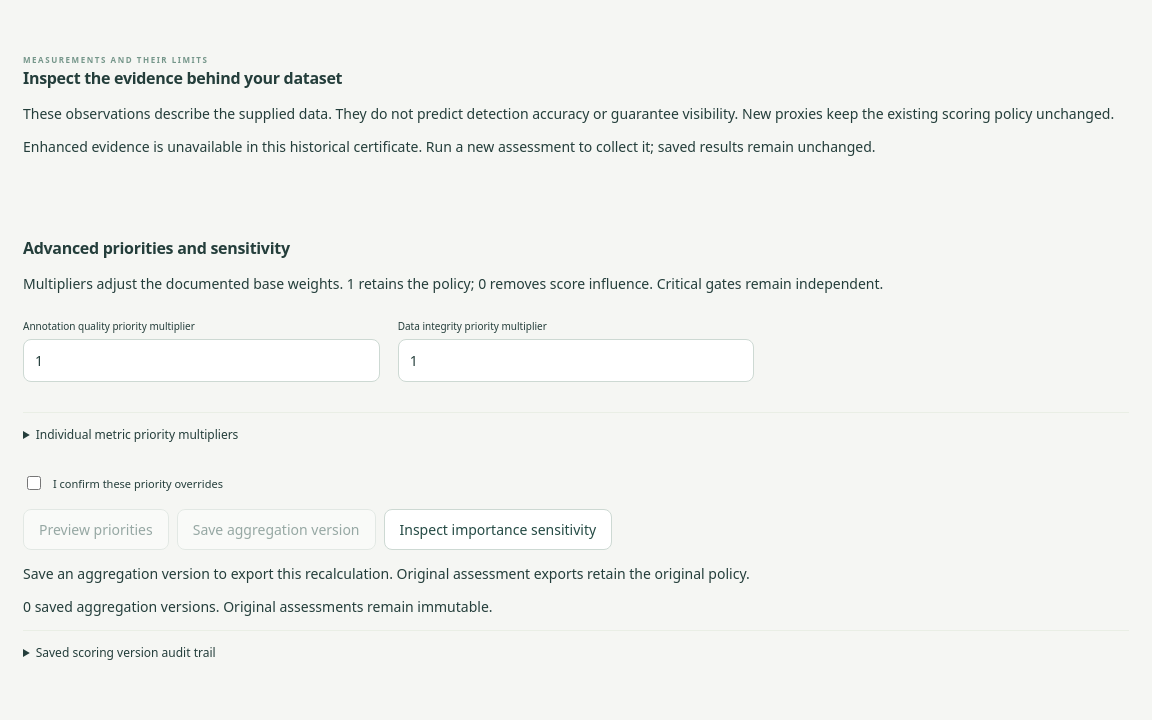
Scenario: requires explicit priority confirmation and persists the exact submitted multipliers
(page scrolled)
Replace the text in the number field labelled "Annotation quality priority multiplier" with "2" at (201, 361), box 23,339 -> 380,382
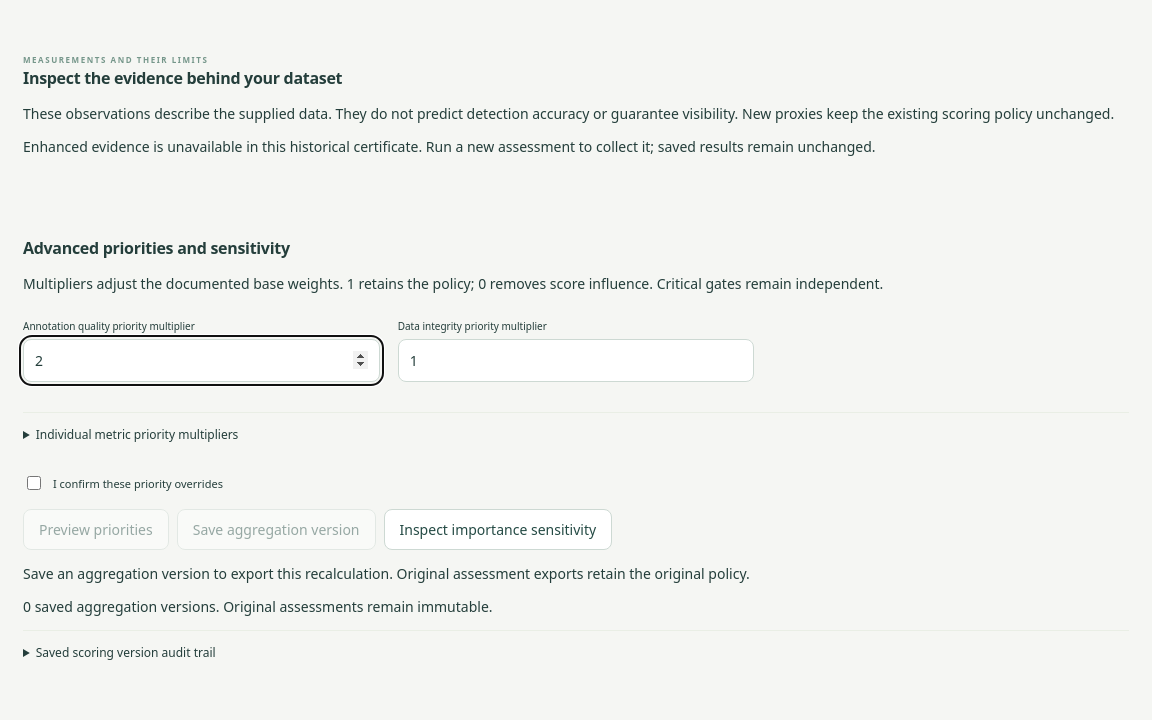
Expected: the button "Save aggregation version" is disabled, 177,510 -> 376,550
Click the checkbox labelled "I confirm these priority overrides" at (34, 484), box 27,476 -> 41,490
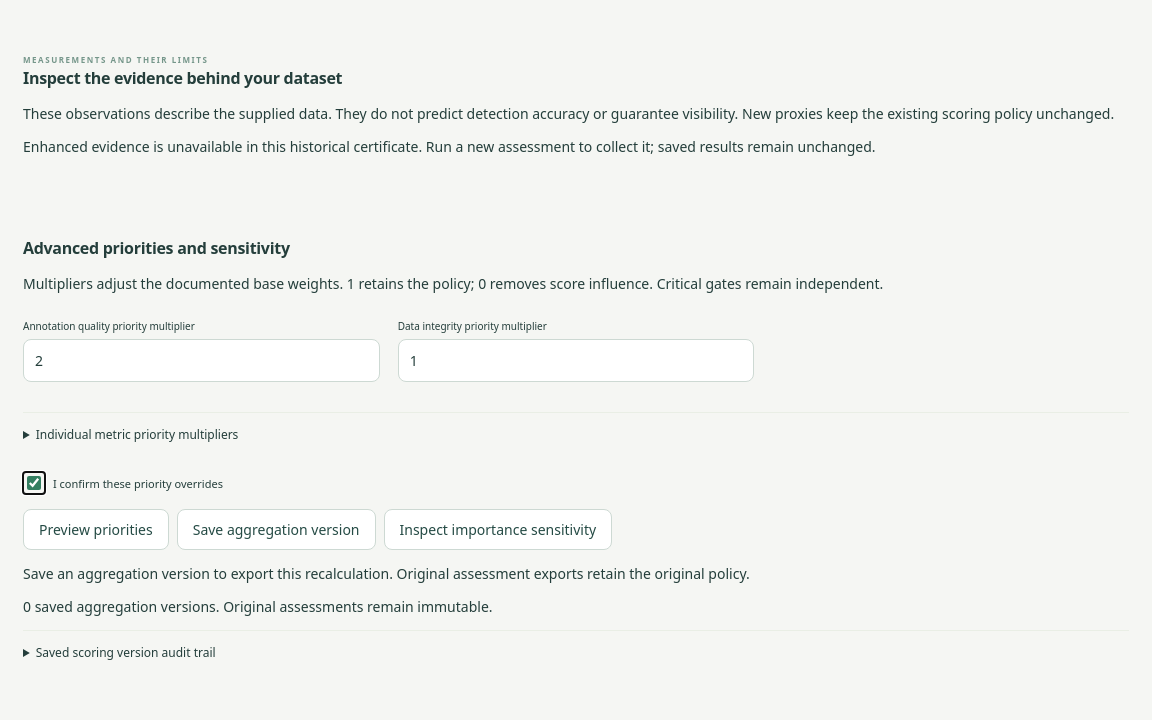
Click the button "Save aggregation version" at (276, 530), box 177,510 -> 376,550
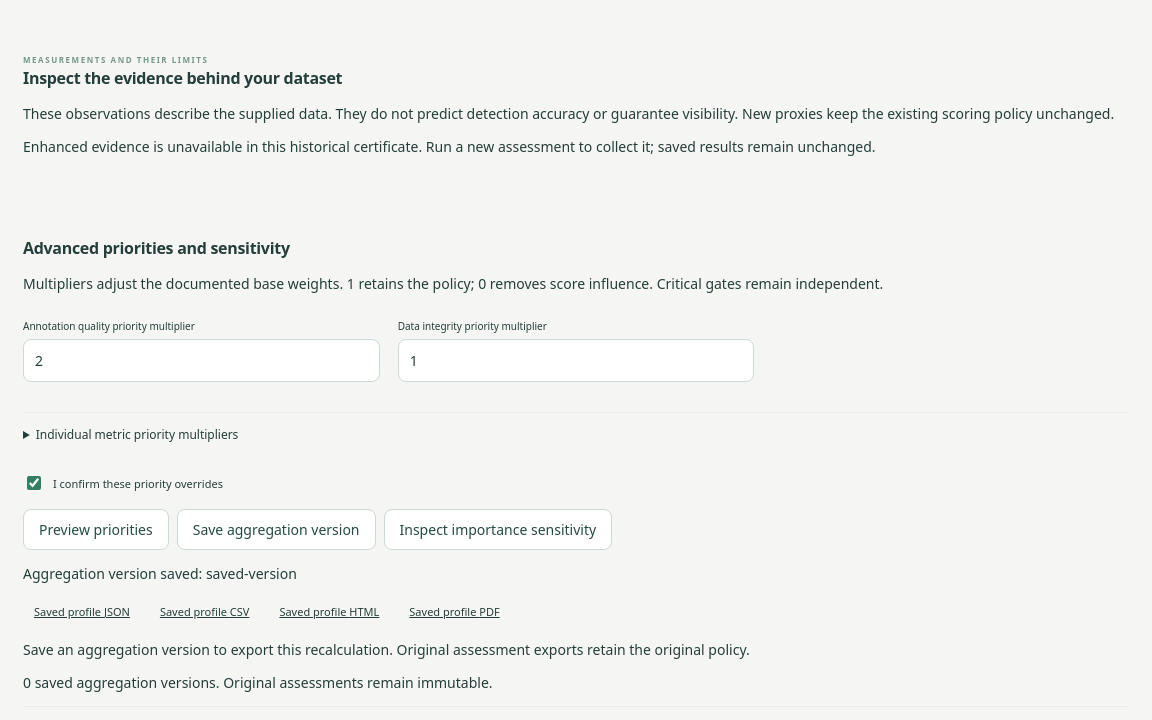
Result: the message reads "Aggregation version saved: saved-version" at 23,564 -> 297,584
